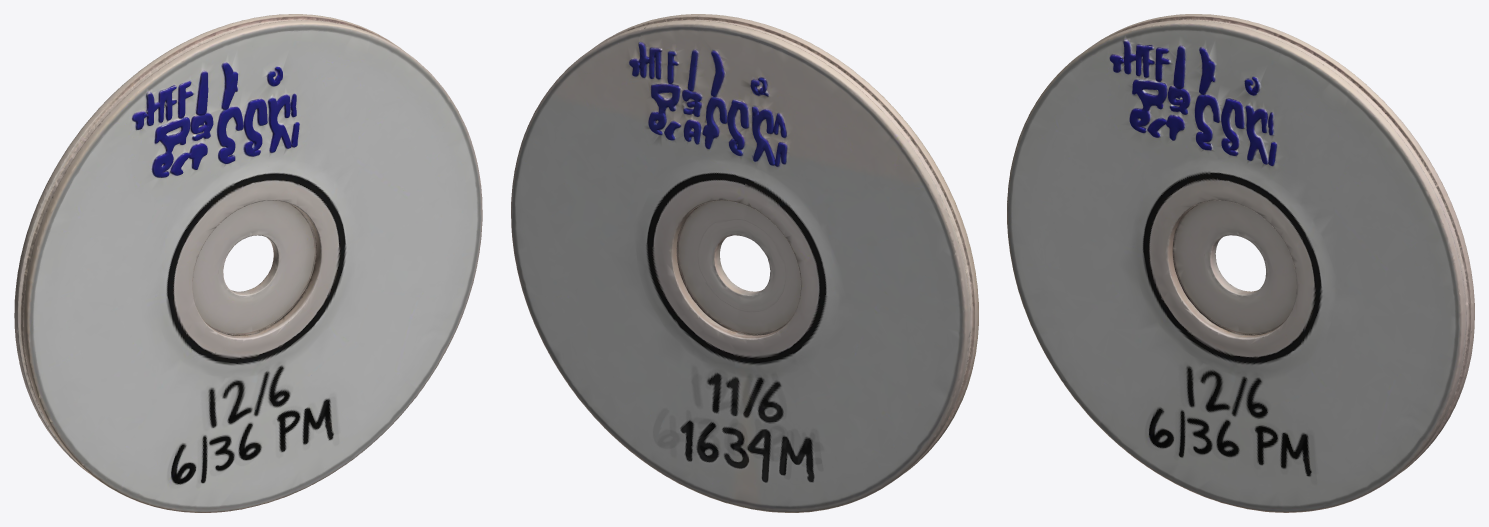
The picture shows the model from 3 angles, left to right: view 1: azimuth 30°, elevation 25°; view 2: azimuth 150°, elevation 25°; view 3: azimuth 330°, elevation 25°; orthographic projection.
Size of the model in its own units: 1.9 by 1.9 by 0.1289.
1 material, 1 textured.
